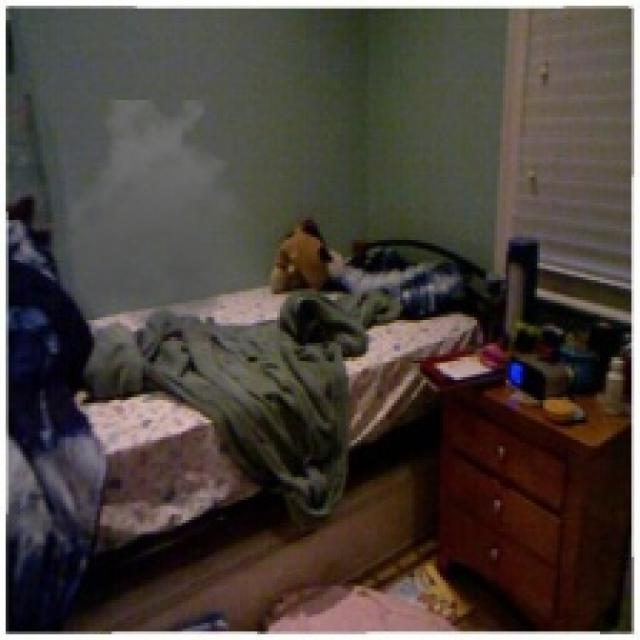Smoke: (54, 100, 263, 340)
